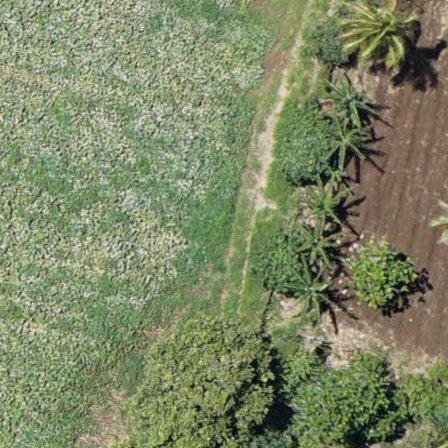palm_tree: (338, 1, 419, 76)
